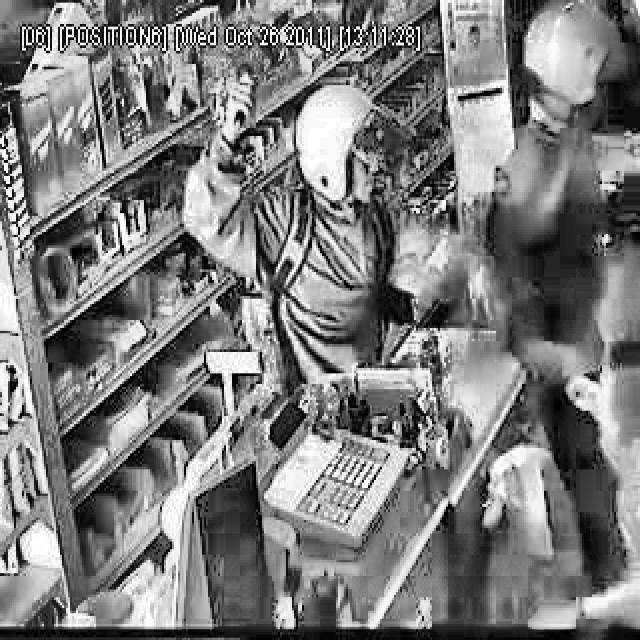robbery: (180, 21, 476, 384), (477, 3, 634, 380)
